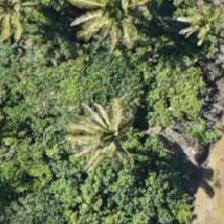coconut_tree: (63, 86, 153, 176), (0, 0, 53, 46)
